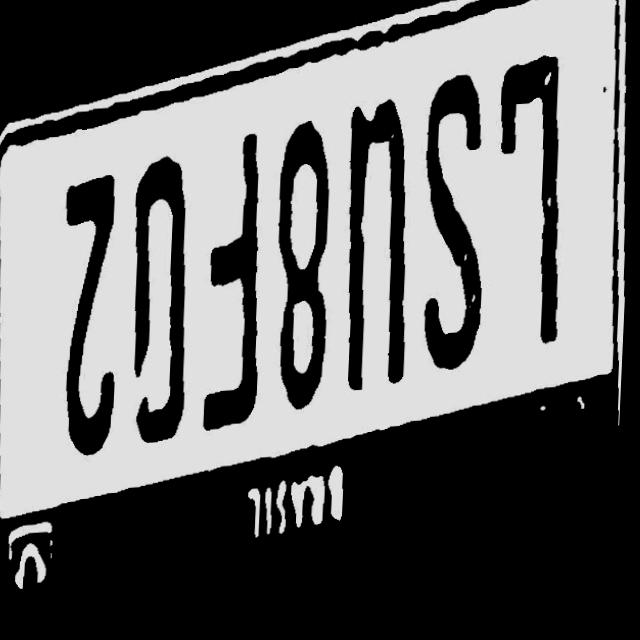0: (128, 157, 198, 445)
2: (56, 173, 129, 461)
8: (274, 122, 341, 422)
f: (205, 131, 270, 437)
l: (489, 66, 575, 358)
s: (424, 77, 495, 384)
u: (338, 89, 417, 407)
